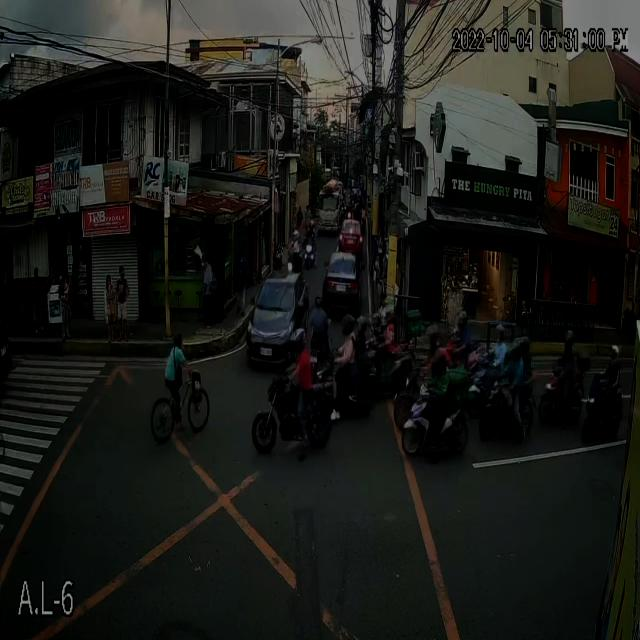Full-Faced: (288, 332, 308, 362), (454, 312, 472, 340), (436, 350, 452, 378), (290, 230, 305, 250), (558, 329, 574, 347), (358, 313, 366, 344), (608, 351, 622, 368), (429, 323, 441, 342), (345, 324, 355, 346), (514, 337, 520, 371), (314, 296, 324, 315), (373, 316, 383, 334), (309, 218, 319, 233), (497, 322, 505, 339)
Half-Faced: (168, 331, 185, 351)
